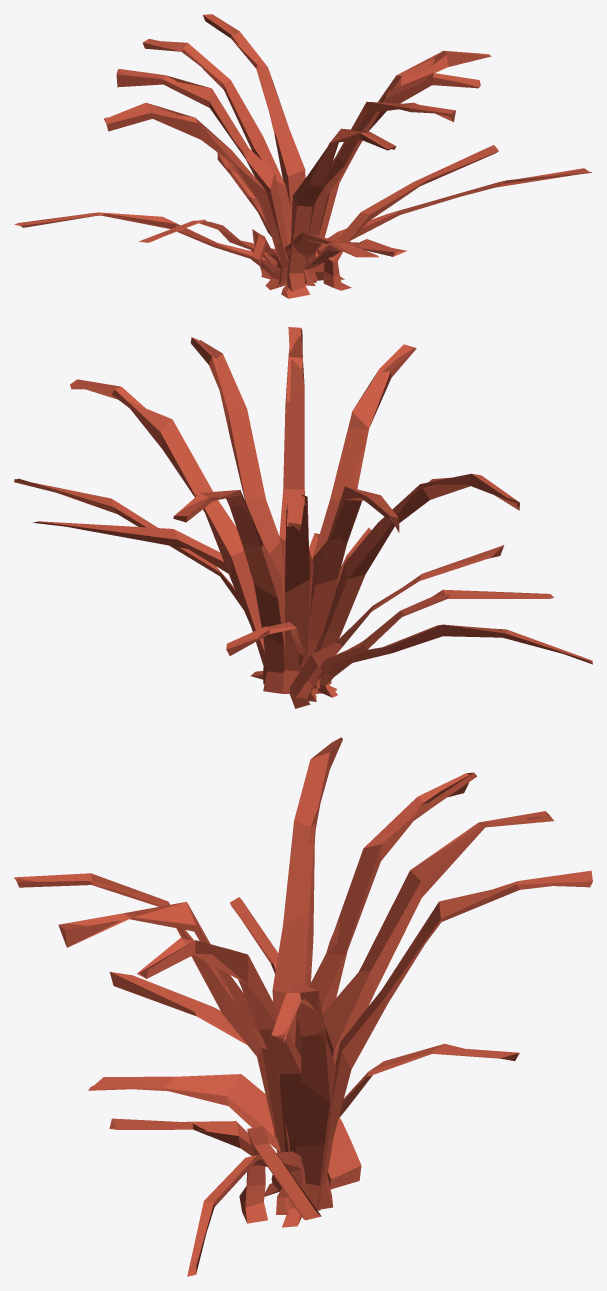
Rendered from klen_t1.fbx.
3 views of the same model, one above another, from view 1: azimuth 30°, elevation 25°; view 2: azimuth 150°, elevation 25°; view 3: azimuth 270°, elevation 25° (orthographic). The views are drawn at different scales.
Visible parts, largest first — view 1: Cube.003, Cube.002, Cube.004, Cube, Cube.001, Cube.009, Cube.005, Cube.012, Cube.006, Cube.007, Cube.008, Cube.010 (+4 smaller); view 2: Cube.007, Cube, Cube.003, Cube.006, Cube.001, Cube.002, Cube.004, Cube.005, Cube.012, Cube.014, Cube.013, Cube.009 (+2 smaller); view 3: Cube.003, Cube.001, Cube.007, Cube, Cube.006, Cube.002, Cube.005, Cube.015, Cube.004, Cube.014, Cube.009, Cube.008 (+3 smaller).
Part boxes in pixels (box(x1,y1,x2,y2)): Cube.003: box(104, 102, 288, 284); Cube.002: box(116, 69, 288, 261); Cube.004: box(287, 128, 396, 291); Cube: box(203, 14, 305, 212); Cube.001: box(142, 39, 291, 244); Cube.009: box(323, 145, 498, 290); Cube.005: box(303, 101, 455, 283); Cube.012: box(14, 212, 287, 290); Cube.006: box(312, 73, 480, 282); Cube.007: box(316, 50, 491, 253); Cube.008: box(317, 168, 591, 279); Cube.010: box(281, 239, 406, 298); Cube.007: box(70, 379, 266, 684); Cube: box(173, 490, 285, 693); Cube.003: box(314, 473, 519, 689); Cube.006: box(190, 337, 284, 604); Cube.001: box(283, 491, 313, 693); Cube.002: box(300, 486, 399, 693); Cube.004: box(313, 344, 416, 681); Cube.005: box(279, 327, 304, 598); Cube.012: box(318, 624, 592, 697); Cube.014: box(289, 545, 504, 708); Cube.013: box(307, 589, 553, 701); Cube.009: box(33, 521, 228, 573); Cube.003: box(272, 737, 342, 1044); Cube.001: box(323, 811, 553, 1185); Cube.007: box(271, 981, 335, 1210); Cube: box(319, 870, 592, 1209); Cube.006: box(137, 938, 301, 1152); Cube.002: box(295, 772, 477, 1057); Cube.005: box(58, 902, 289, 1191); Cube.015: box(88, 1074, 280, 1152); Cube.004: box(14, 873, 278, 1186); Cube.014: box(109, 972, 361, 1189); Cube.009: box(239, 1126, 321, 1223); Cube.008: box(187, 1151, 305, 1276).
Bounding box in the file's own units: 63.93 × 25.29 × 39.28.
